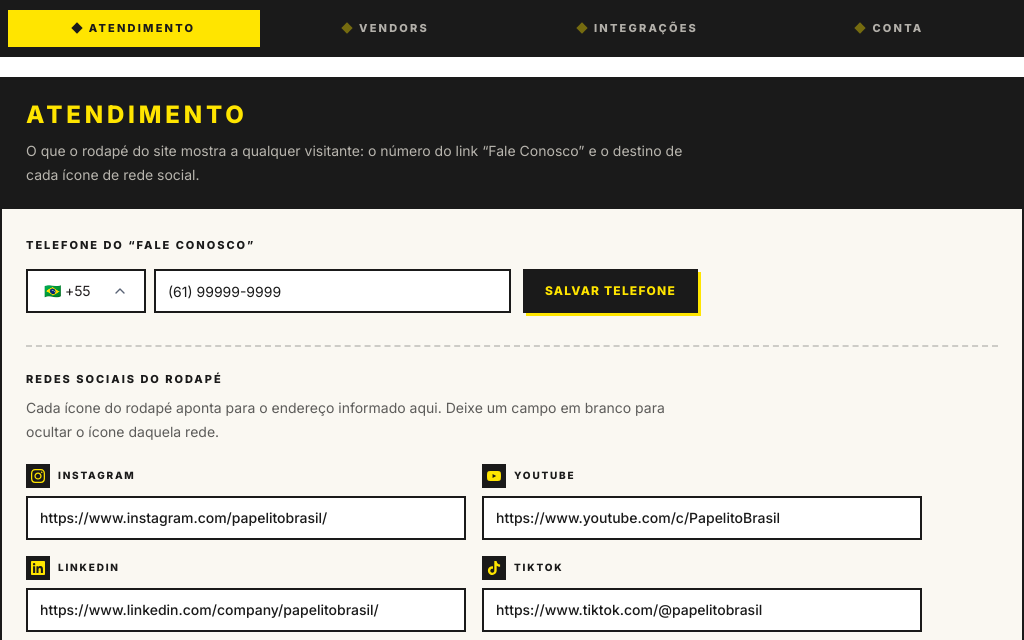
ConfigContent › refuses a social link that is not http or https
Type "youtube.com/papelito" into the field labelled "YouTube" at (702, 518), box [482,496,922,540]
(page scrolled)
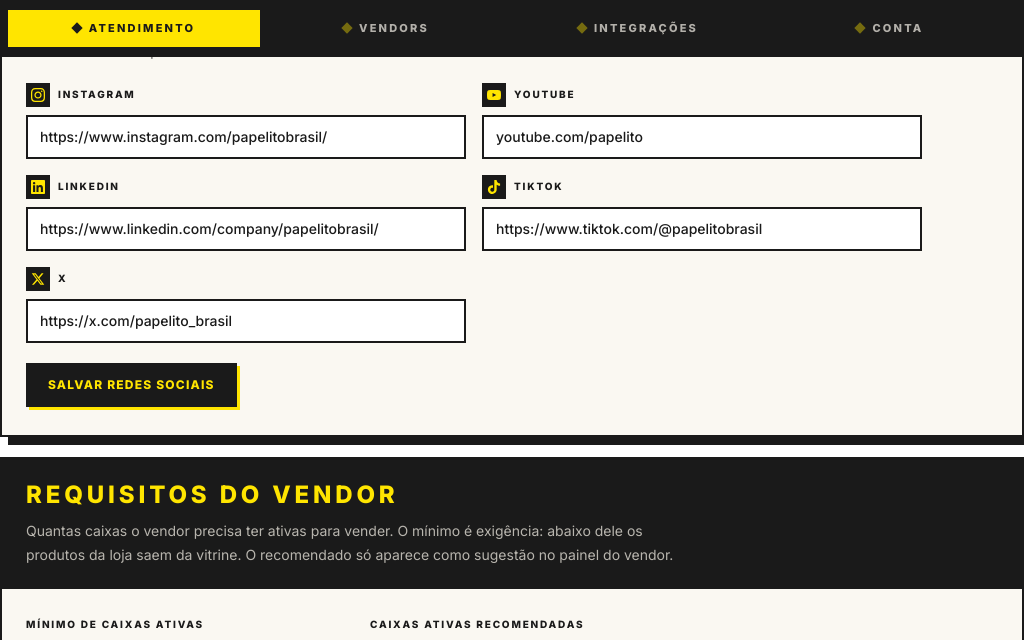
Click the button "Salvar redes sociais" at (131, 384), box [26,362,237,406]
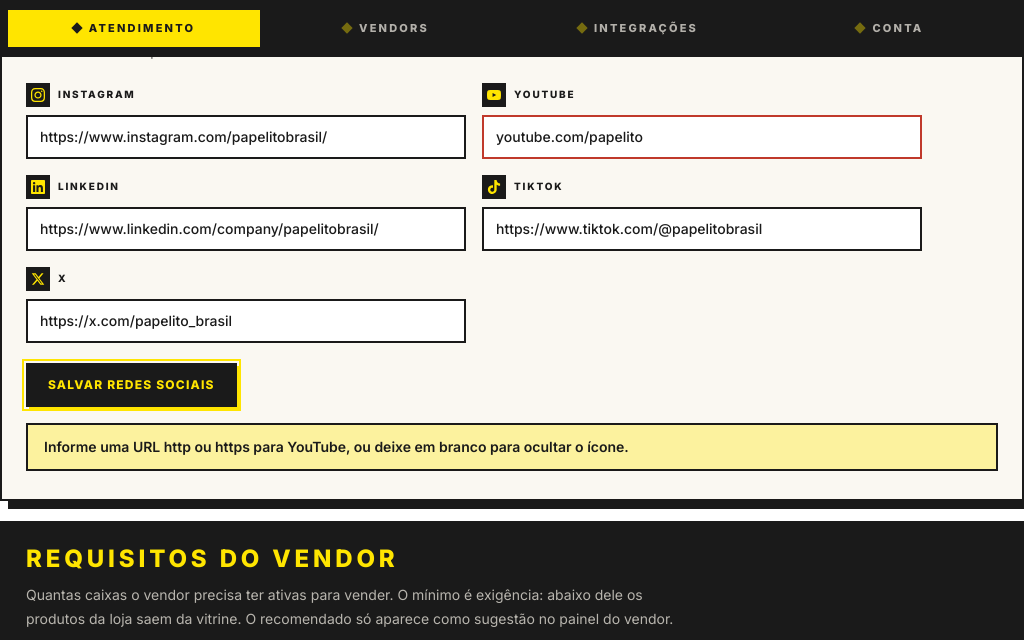
Now the text "Informe uma URL http ou https para YouTube" is shown, box [44,438,629,454]
